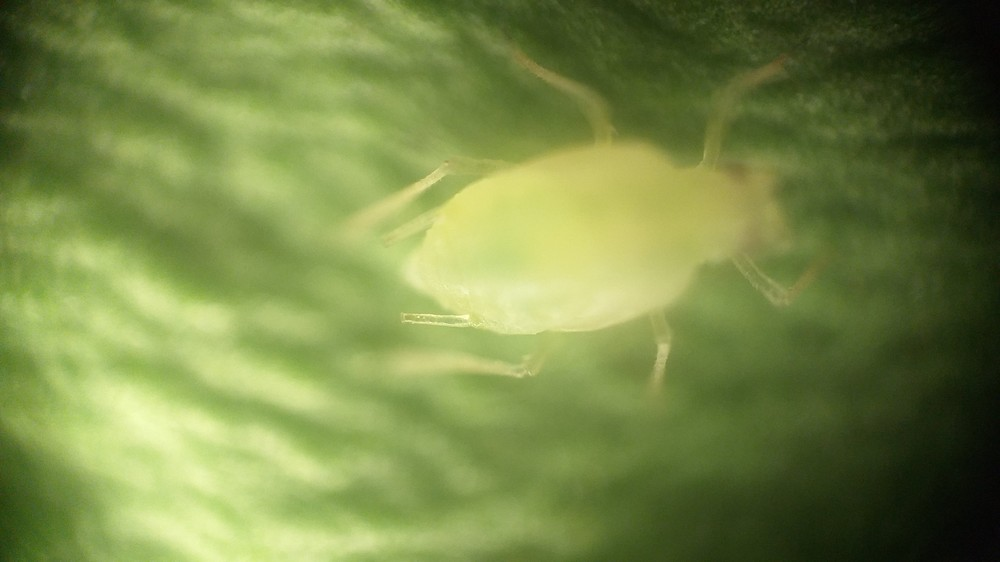Pulgon: (346, 44, 863, 429)
